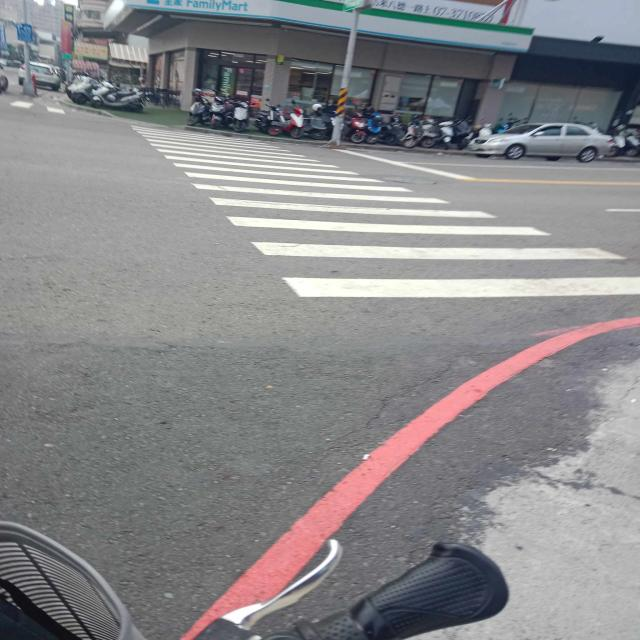zebra crossing: (135, 122, 640, 298), (4, 96, 63, 116)
